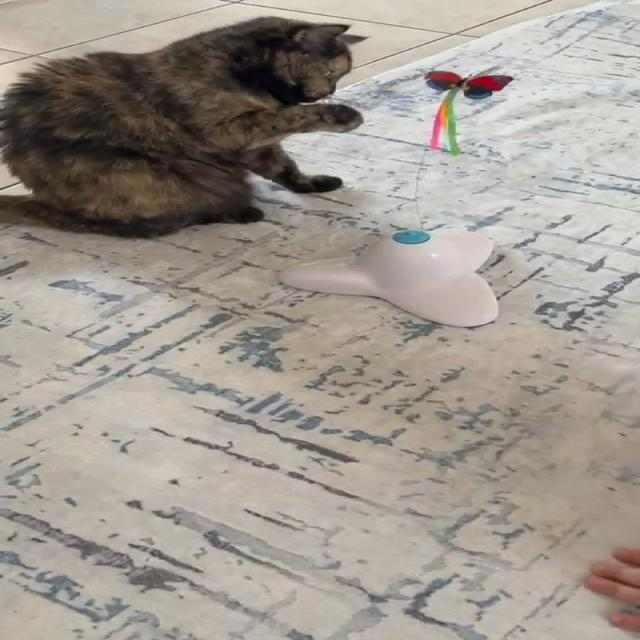authorized: (0, 15, 371, 239)
